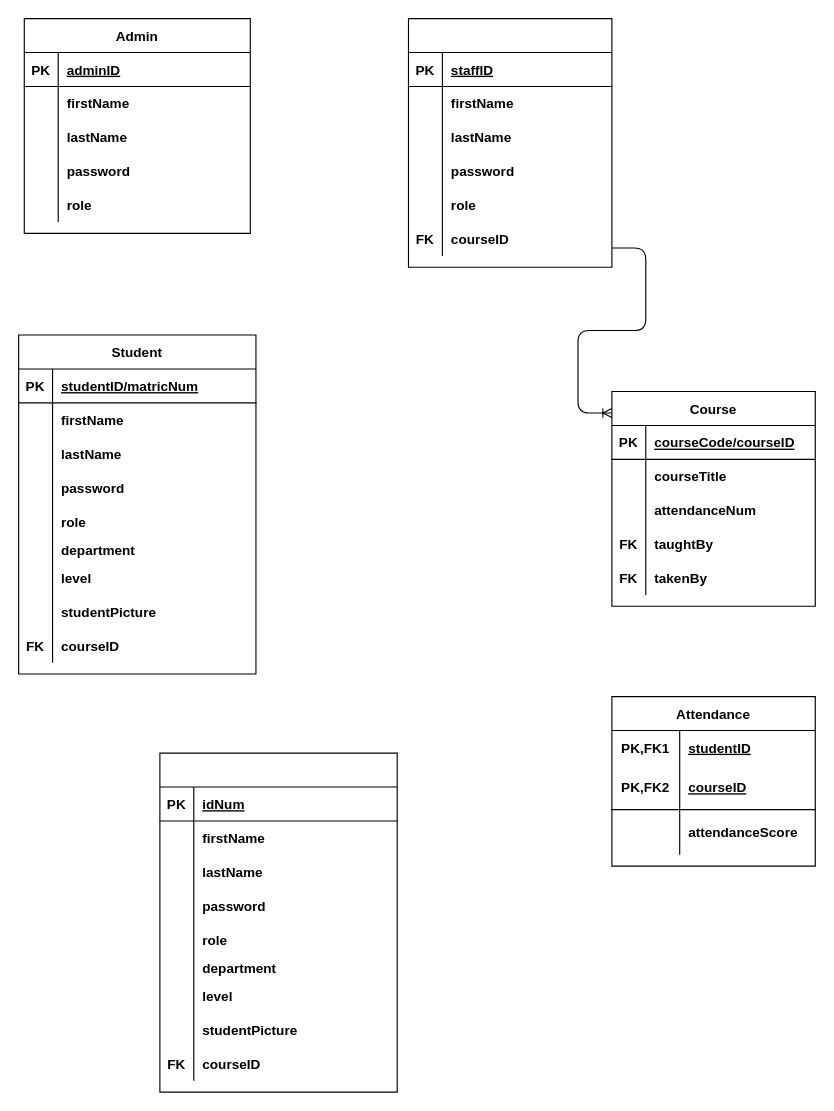
The diagram is 834 pixels wide and 1111 high, and some of its shapes have lost their labels. Each missing label, with the box of its shape:
Lecturer: (407, 18, 612, 267)
User: (159, 752, 397, 1092)
